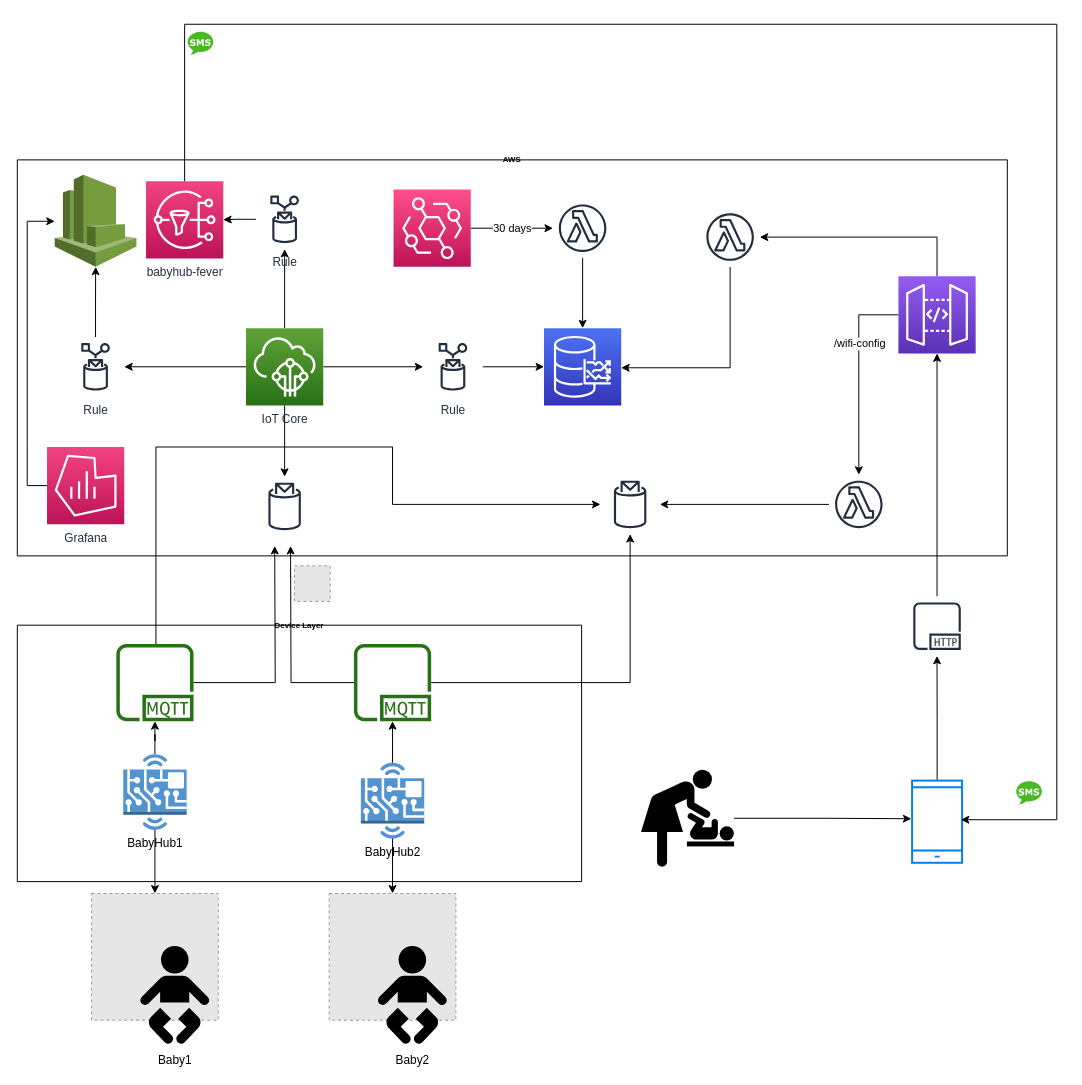
The diagram is 1082 pixels wide and 1085 high, and some of its shapes have lost their labels. Grey dashed boxes stand in for pictures. The centre of each missing label's shape, as x and y in pixels:
"CloudWatch" belongs at (x=95, y=220).
"esp32/+/pub" belongs at (x=284, y=506).
"EventBridge" belongs at (x=432, y=228).
"HTTP protocol" belongs at (x=936, y=625).
"timestream" belongs at (x=582, y=366).
"wifi-config/sub" belongs at (x=629, y=504).
